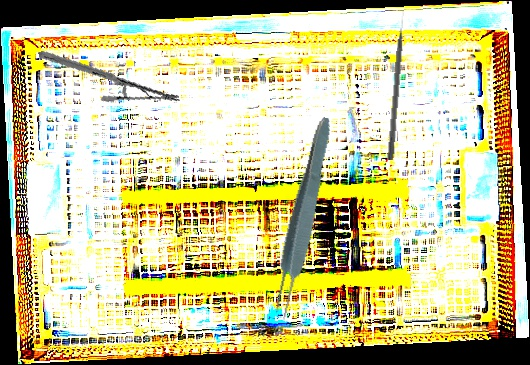Needle Holder: (38, 27, 180, 126)
Pusher: (386, 9, 409, 161)
Tissue Forceps: (265, 114, 339, 324)
